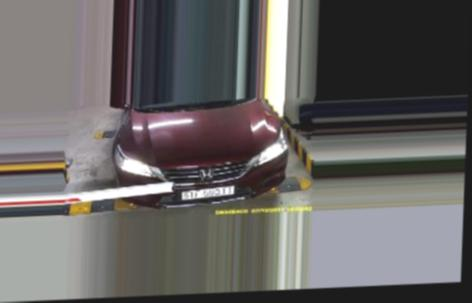License_Plate: (179, 184, 240, 202)
